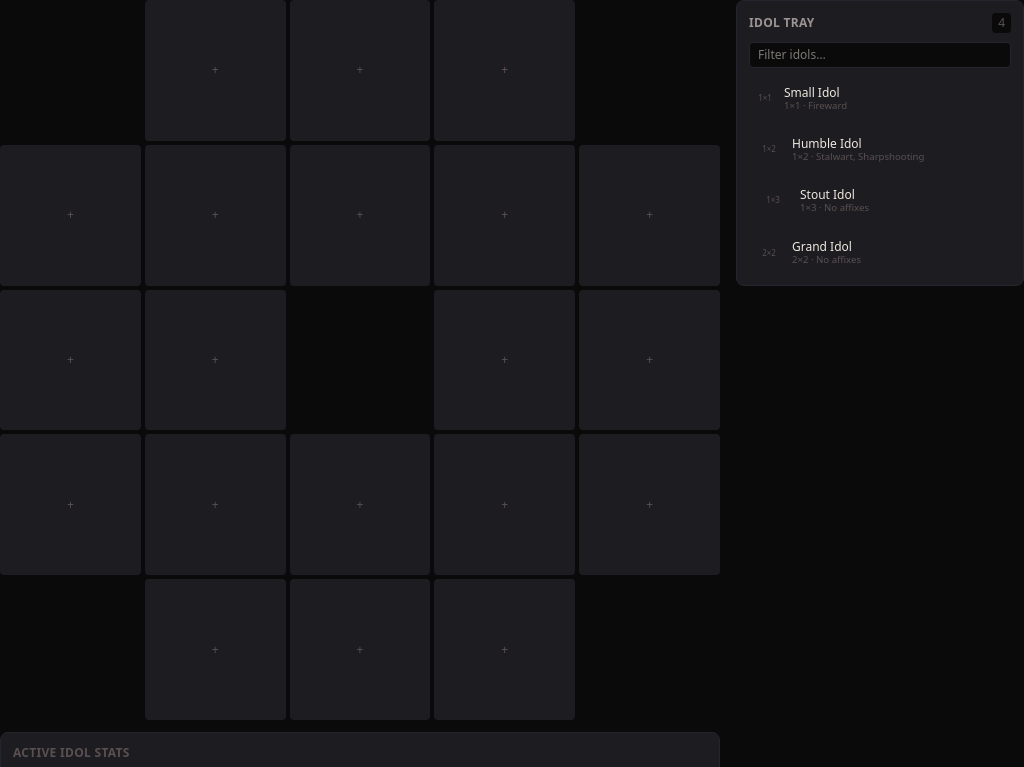
Scenario: IdolEditor › filter input narrows the tray cards by name (case-insensitive)
The width and height of the screenshot is (1024, 767).
In the field named "Filter idols by name": (880,55) [749,42,1011,68], type "humble"
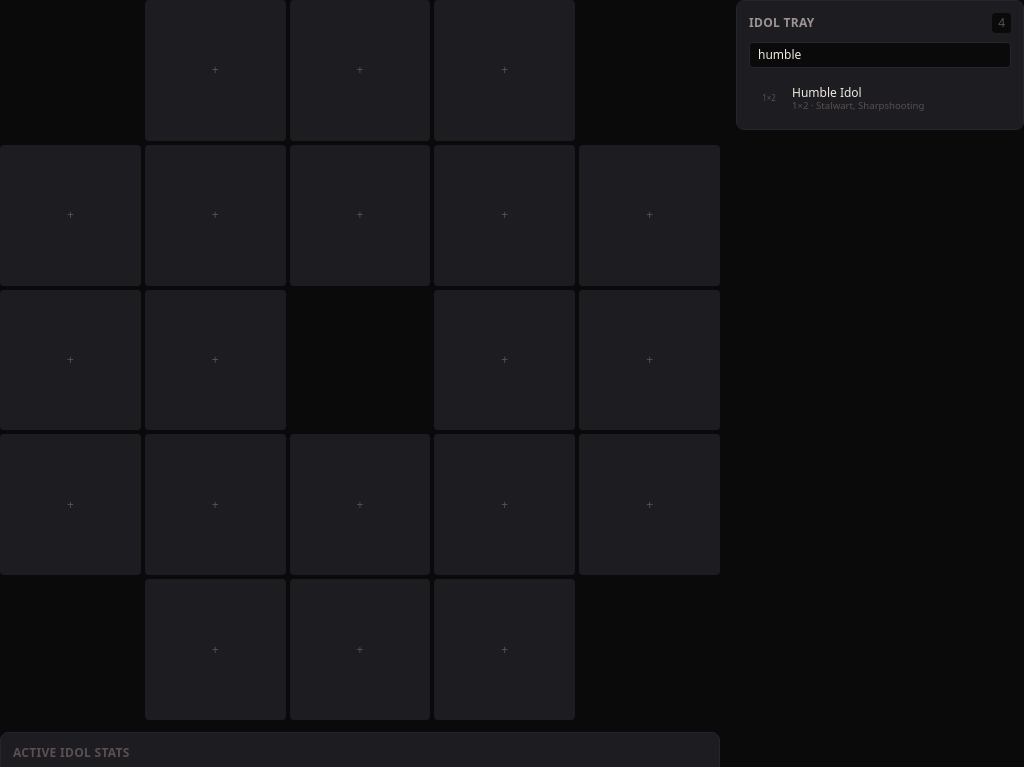
Expected: the button "1×2 Humble Idol 1×2 · Stalwart, Sharpshooting" is shown, [745,76,1015,121]
Result: the button "Small Idol" is gone
